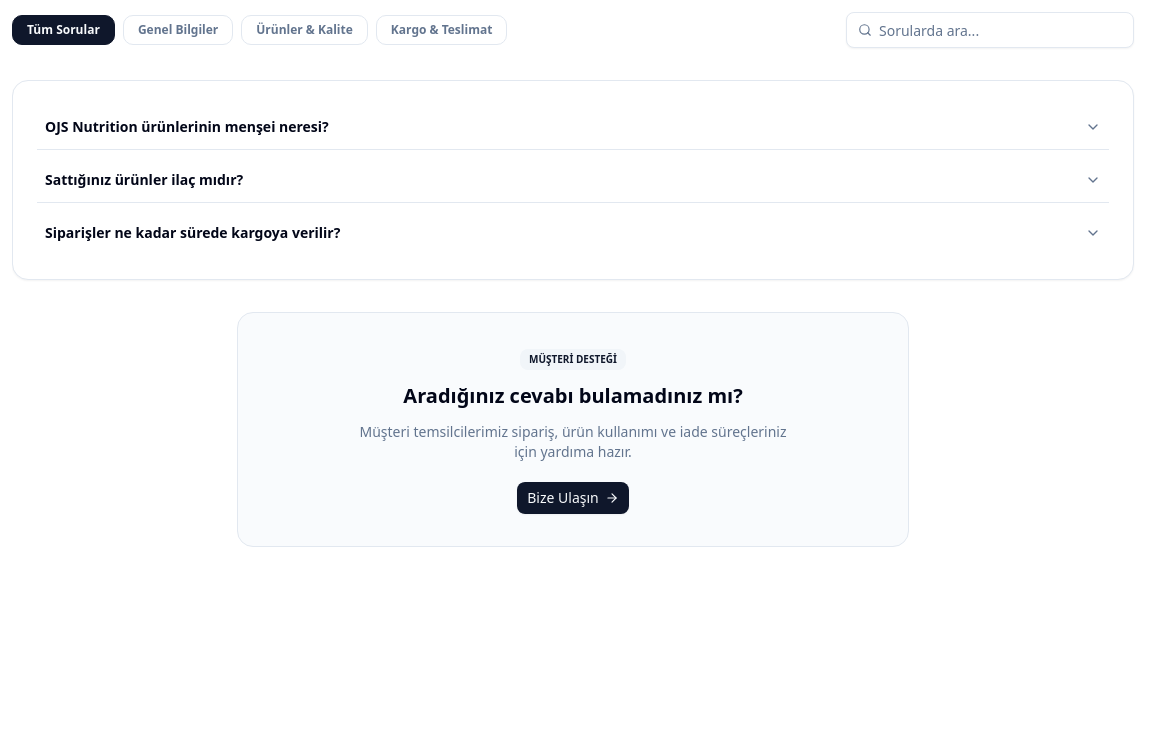
FaqList Component › filters questions by category when a category button is clicked
Click the button "Ürünler & Kalite": (305, 30) left=241, top=15, right=368, bottom=45
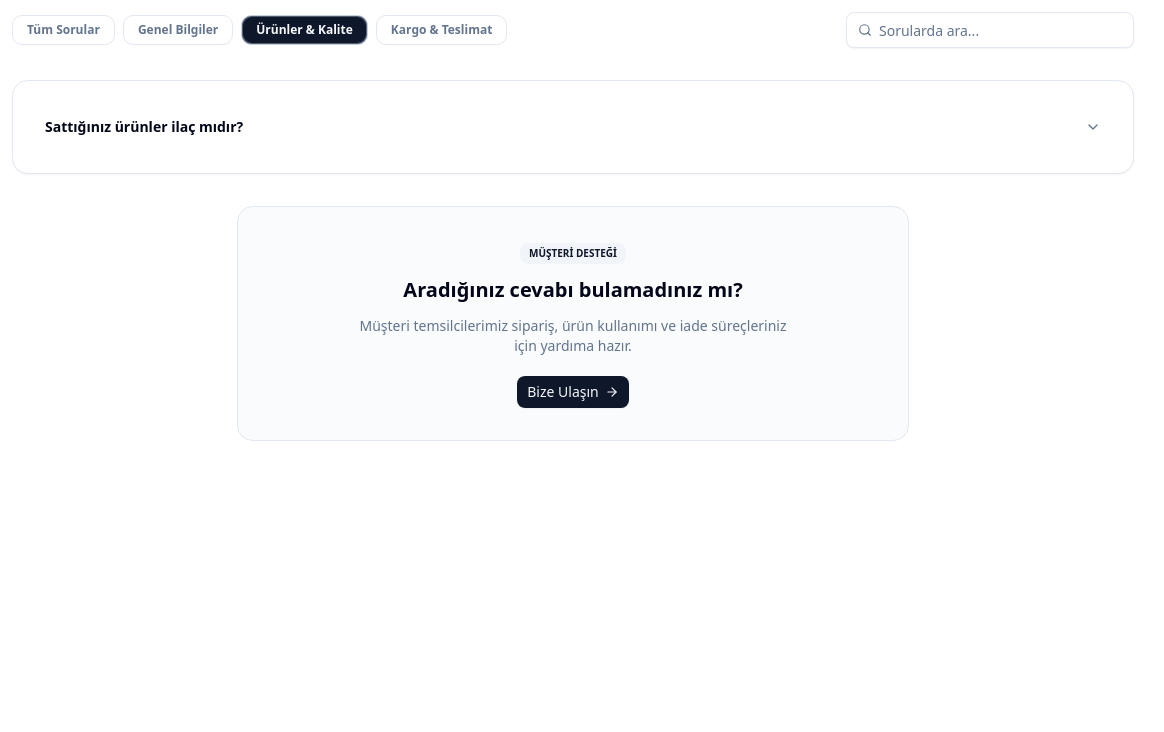
Expected: the text "Sattığınız ürünler ilaç mıdır?" is shown, left=45, top=117, right=243, bottom=137
Now the button "OJS Nutrition ürünlerinin menşei neresi?" is gone
Now the button "Siparişler ne kadar sürede kargoya verilir?" is gone
Click the button "Kargo & Teslimat": (442, 30) left=376, top=15, right=507, bottom=45
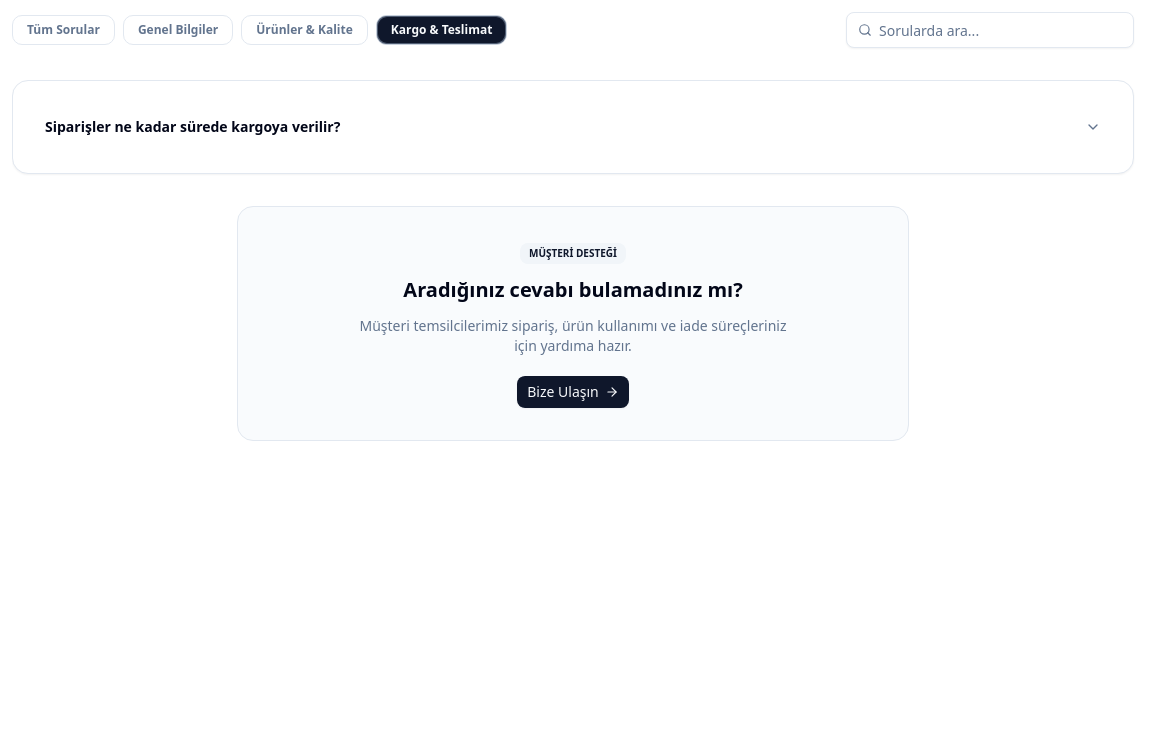
Now the text "Siparişler ne kadar sürede kargoya verilir?" is shown, box left=45, top=117, right=340, bottom=137
Now the button "Sattığınız ürünler ilaç mıdır?" is gone
Click the button "Tüm Sorular": (63, 30) left=12, top=15, right=115, bottom=45
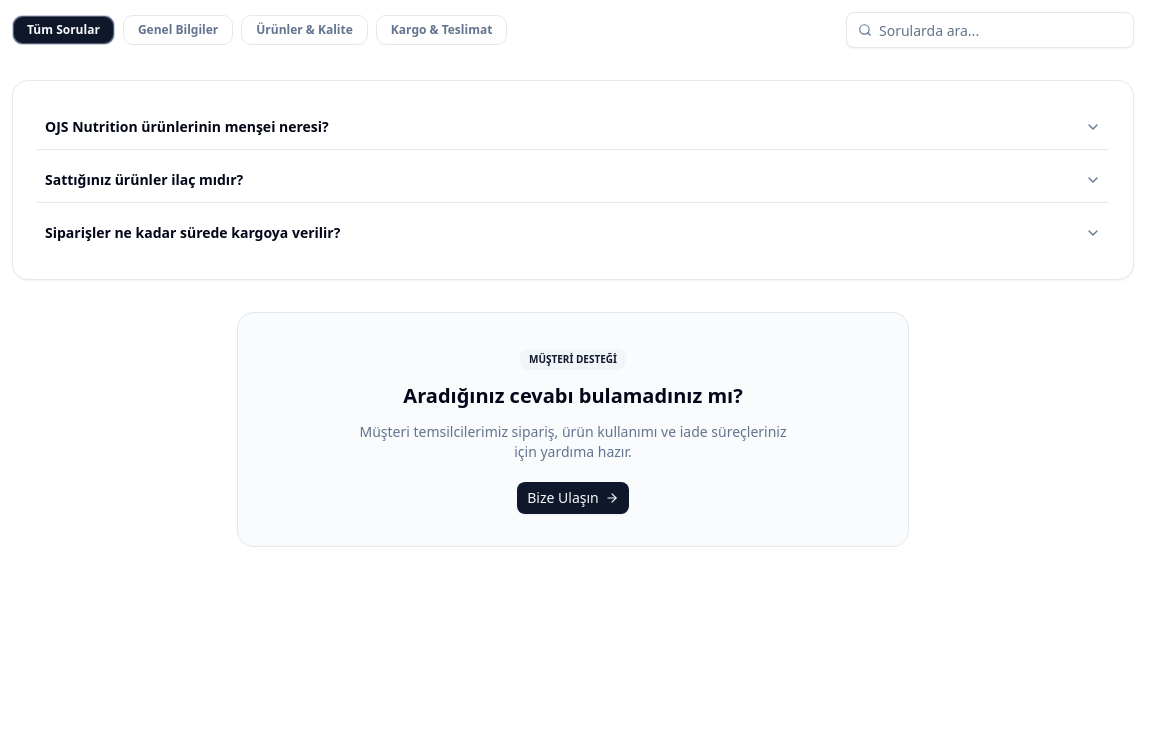
Now the text "Siparişler ne kadar sürede kargoya verilir?" is shown, box left=45, top=223, right=340, bottom=243
Now the text "OJS Nutrition ürünlerinin menşei neresi?" is shown, box left=45, top=117, right=329, bottom=137
Now the text "Sattığınız ürünler ilaç mıdır?" is shown, box left=45, top=170, right=243, bottom=190
